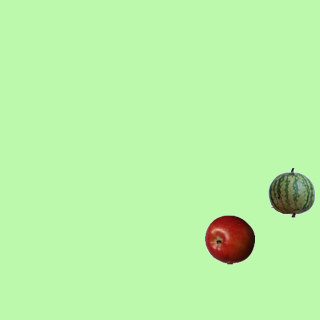Apple Braeburn: (204, 214, 254, 264)
Watermelon: (266, 167, 316, 217)
